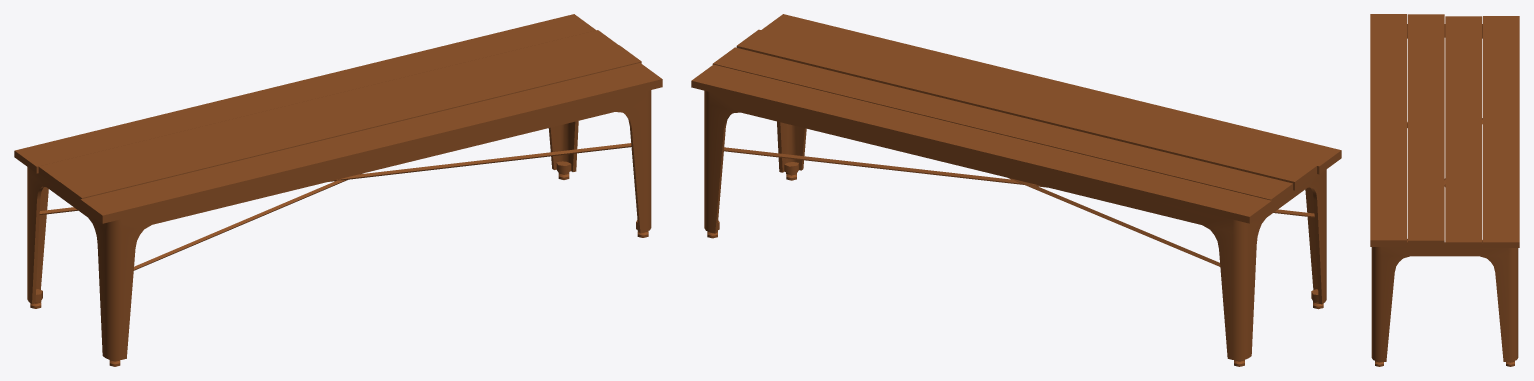
Rendered from bench2 1.glb.
The picture shows the model from 3 angles, left to right: view 1: azimuth 30°, elevation 25°; view 2: azimuth 150°, elevation 25°; view 3: azimuth 270°, elevation 25°; orthographic projection. The views are drawn at different scales.
Parts seen in each view (by area): view 1: eb_hipster_bench_01.001; view 2: eb_hipster_bench_01.001; view 3: eb_hipster_bench_01.001.
Boxes of the visible parts, x1,y1,x2,y2 form: eb_hipster_bench_01.001: (14, 14, 662, 366); eb_hipster_bench_01.001: (691, 14, 1341, 366); eb_hipster_bench_01.001: (1370, 14, 1519, 366).
Bounding box in the file's own units: 2.11 × 0.5645 × 0.5855.
